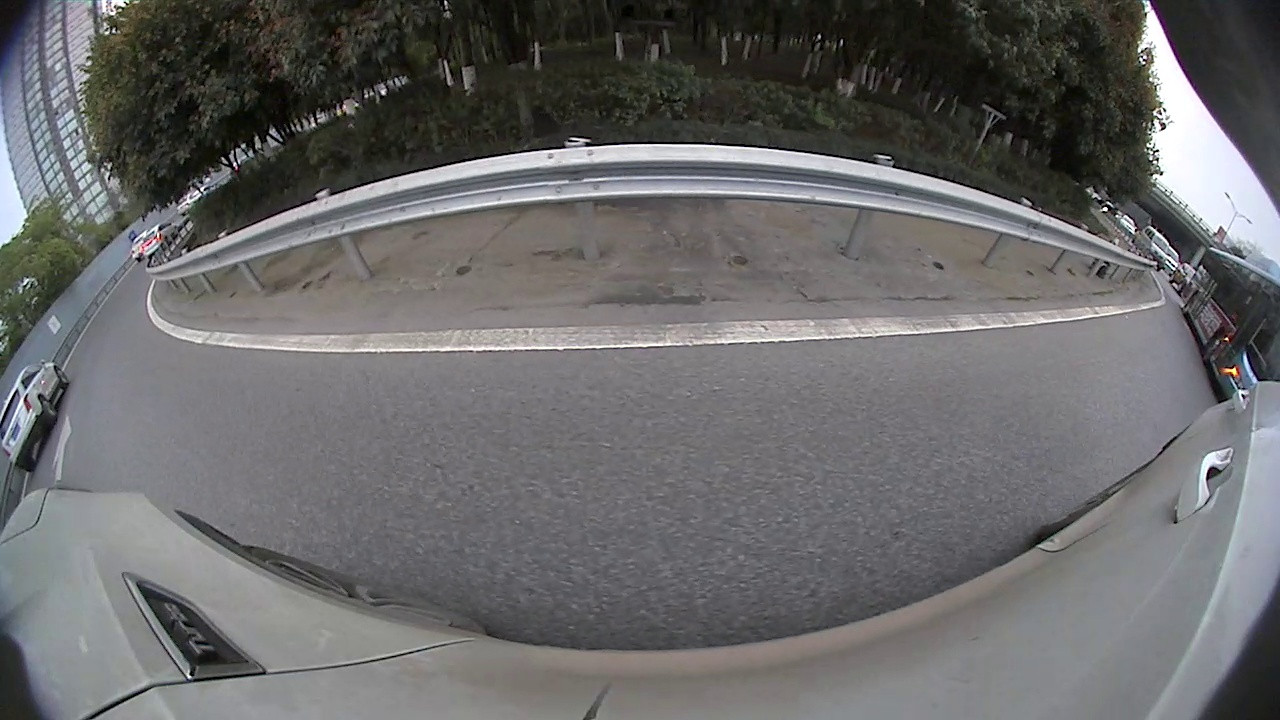bus: (1143, 275, 1200, 361)
car: (471, 27, 1013, 291), (271, 64, 482, 178), (1227, 450, 1265, 517), (69, 235, 117, 283), (1107, 262, 1145, 311), (1188, 367, 1221, 415), (31, 293, 57, 326)
front: (922, 222, 996, 296), (392, 115, 436, 155)
rear: (579, 144, 692, 254), (289, 145, 327, 177)
